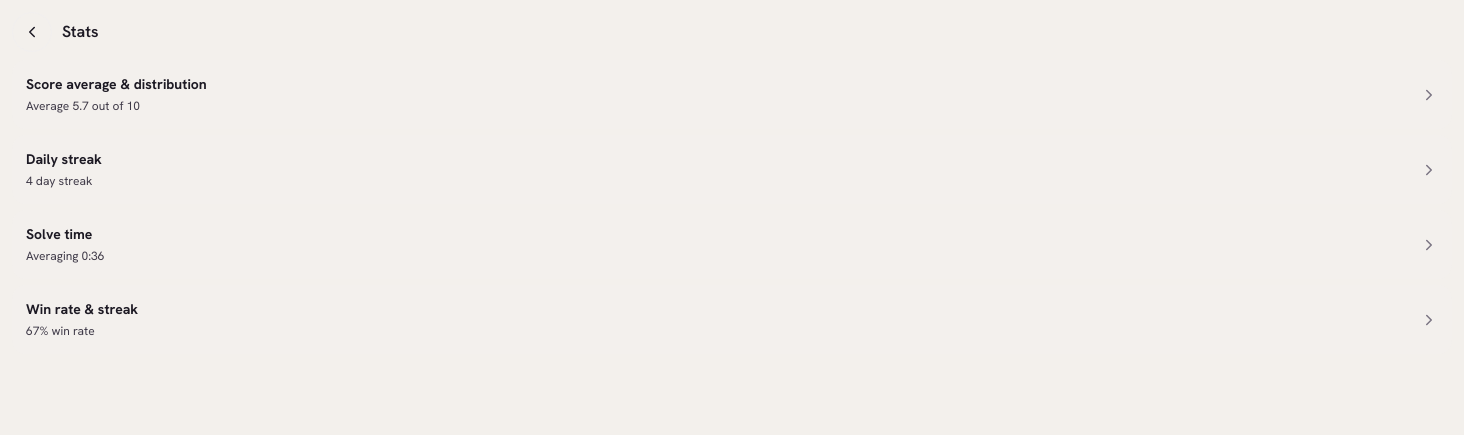
StatsScreen: free play vs daily split › shows the games-played split once games have been recorded
Click the text "Score average & distribution".
click(116, 84)  # box [26,74,207,95]
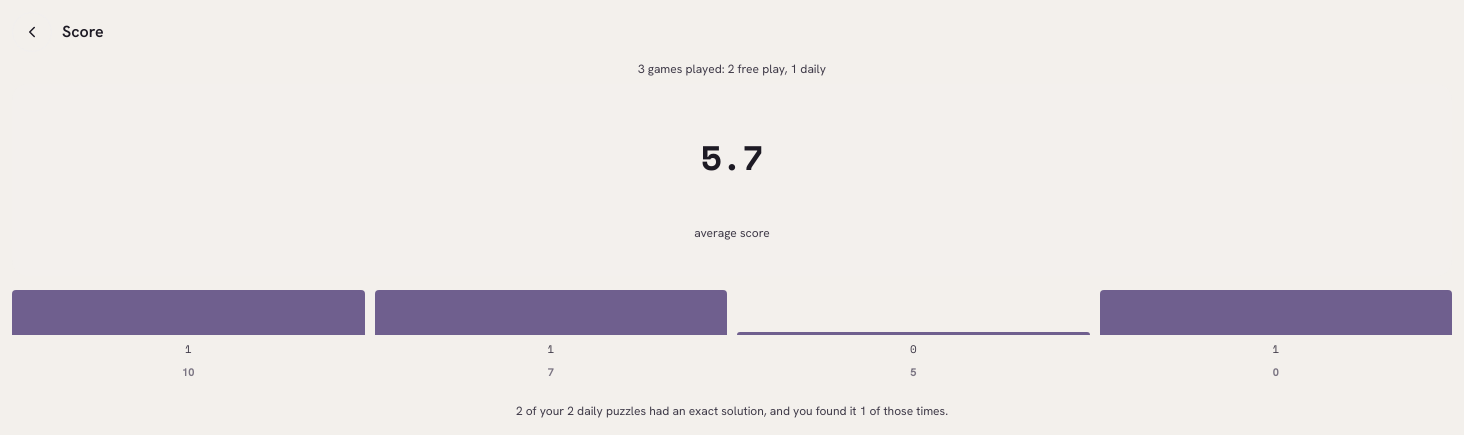
Check: the text "3 games played: 2 free play, 1 daily" is shown, box [638,61,826,77]
